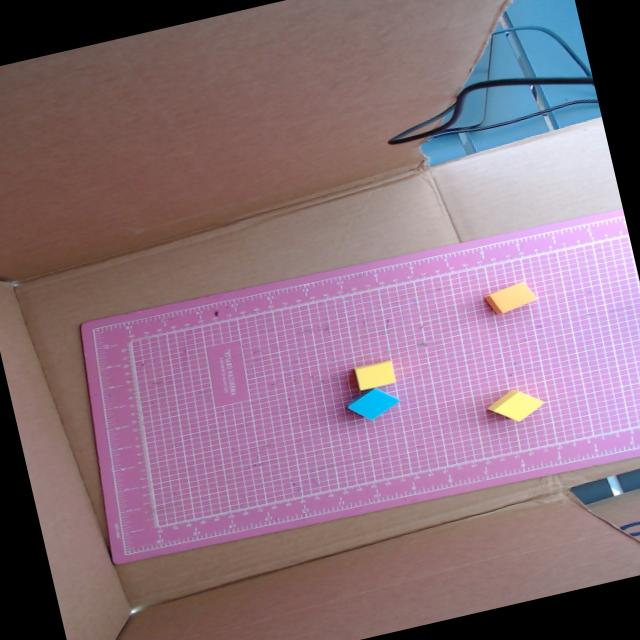bluecube: (346, 388, 399, 420)
orangecube: (484, 281, 536, 313)
yellowcube: (486, 390, 543, 421), (354, 360, 394, 391)
